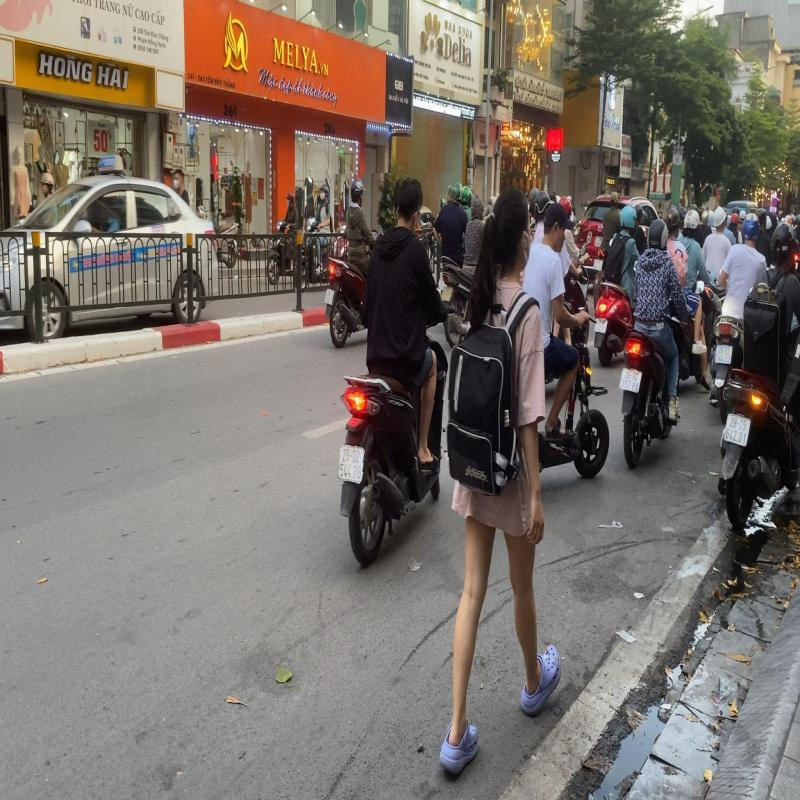licenseplate: (335, 442, 366, 484)
motorcyclist: (332, 173, 459, 570)
nohelmet: (396, 178, 424, 228)
